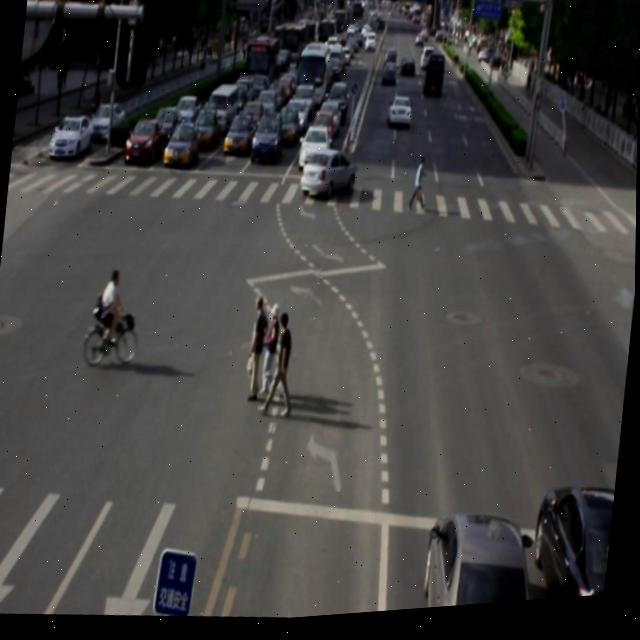car: (422, 513, 541, 615), (528, 488, 617, 609), (299, 150, 356, 208)
